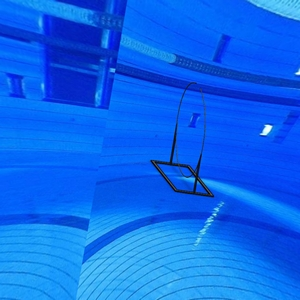circle: (150, 81, 216, 200)
